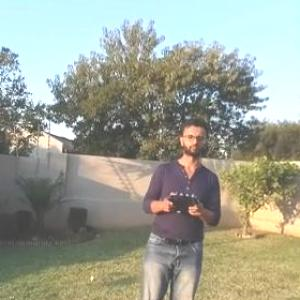follow: (132, 113, 225, 299)
